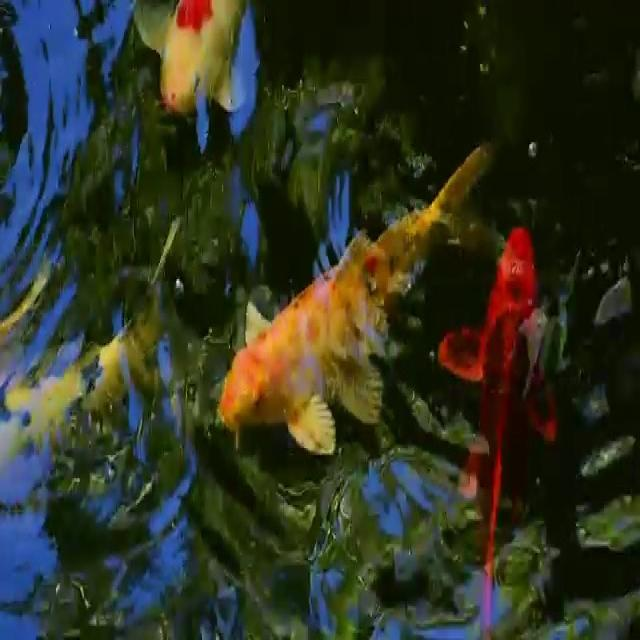fish: (206, 150, 524, 449), (437, 214, 555, 640), (0, 253, 173, 500), (130, 0, 246, 142)
